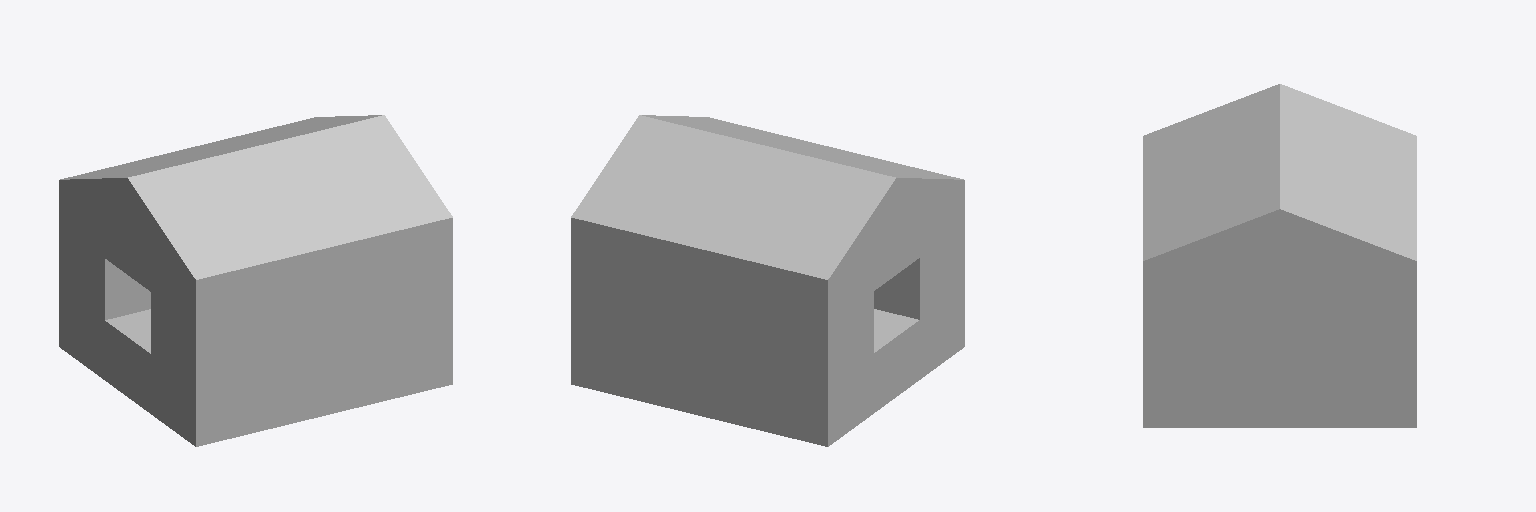
Rendered from house23.obj.
3 renders of one model, left to right at view 1: azimuth 30°, elevation 25°; view 2: azimuth 150°, elevation 25°; view 3: azimuth 270°, elevation 25°, orthographic.
Parts seen in each view (by area): view 1: 立方体.025; view 2: 立方体.025; view 3: 立方体.025.
Part boxes in pixels (x1,y1,x2,y2): 立方体.025: (59,115,452,446); 立方体.025: (571,115,964,446); 立方体.025: (1143,84,1416,427).
Size of the model in its own units: 26 by 21.18 by 24.